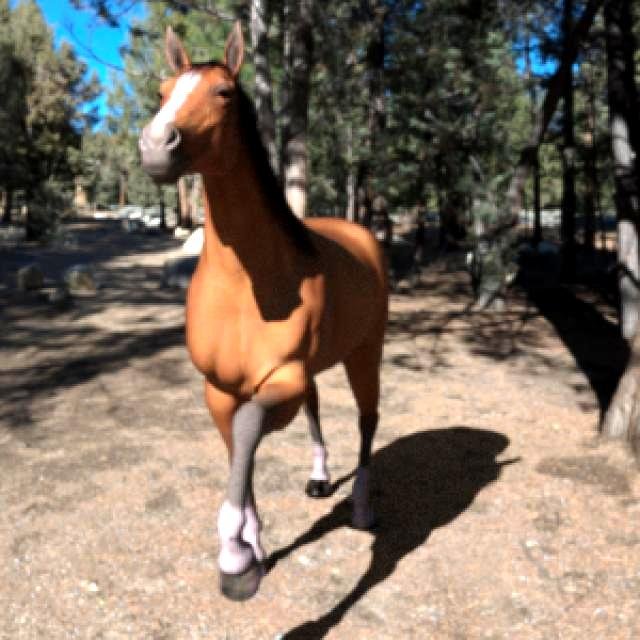horse: (140, 22, 388, 599)
